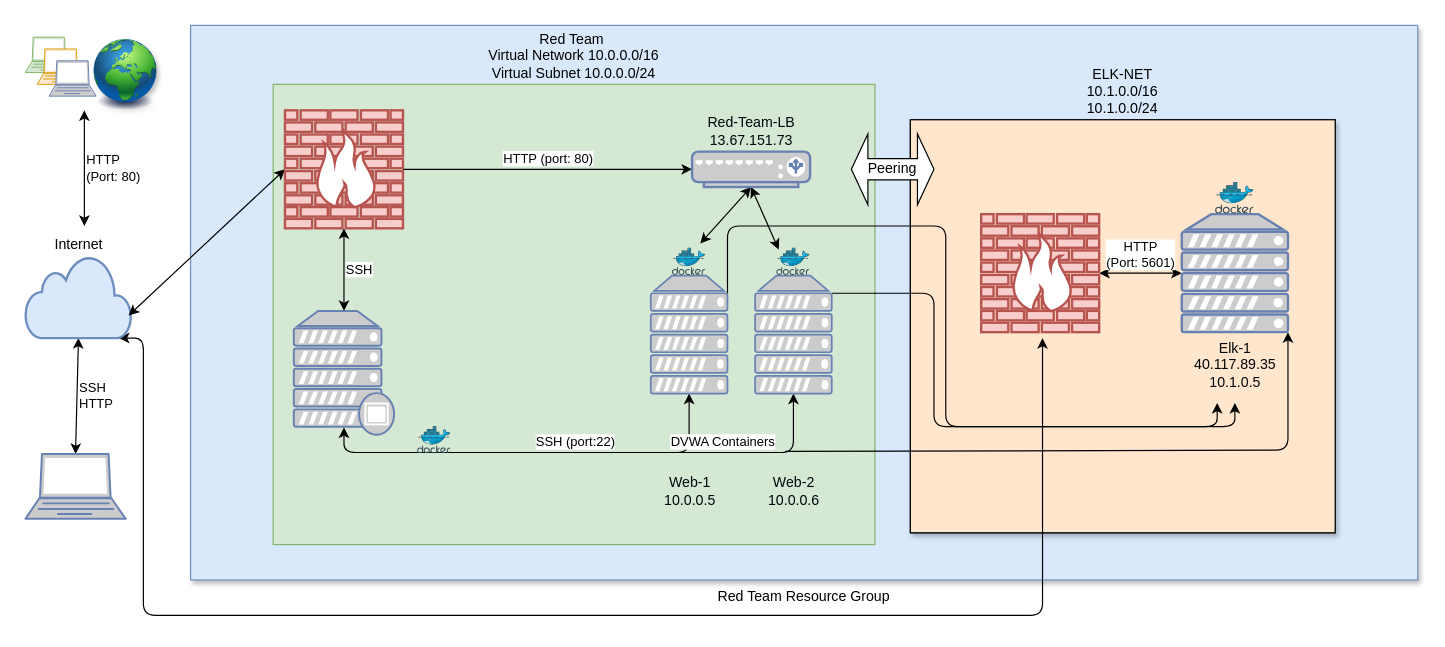
This 1445x647 diagram has some shape labels left out. Here are the shapes that lost their labels. From the top down, the centre of each, then its label:
At (x=343, y=169): "RedTeamNSG".
At (x=1039, y=272): "Elk1nsg743".
At (x=343, y=372): "JumpBoxProvisioner Ansible Container 40.122.54.192 10.0.0.4".
At (x=433, y=439): "Asymmetric Keys".
At (x=75, y=485): "Local Host Work Station 72.50.206.6 Asymmetric Keys".
